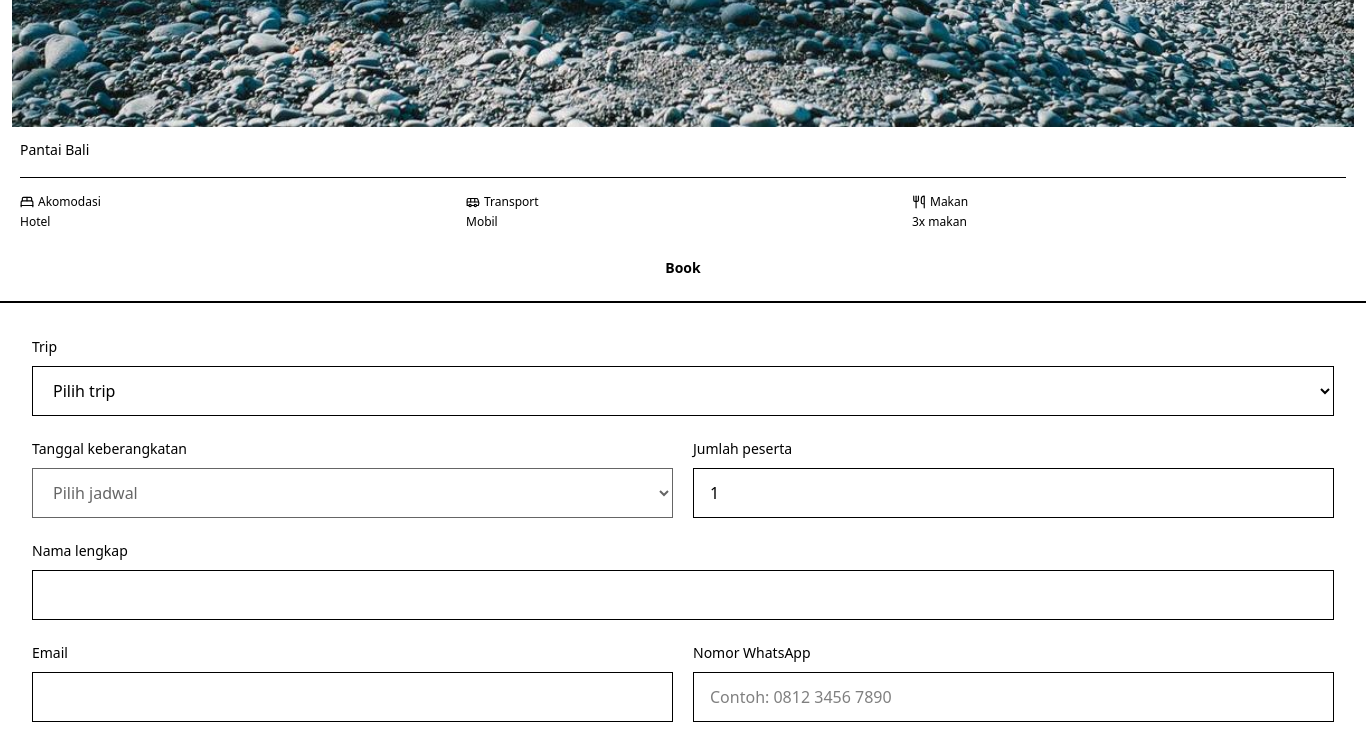
it: BookingForm › submits the form and shows the booking code
(page scrolled)
Select "Nusa Penida — Rp 2.500.000" in the dropdown labelled "Trip" at (683, 391), box [32, 366, 1334, 416]
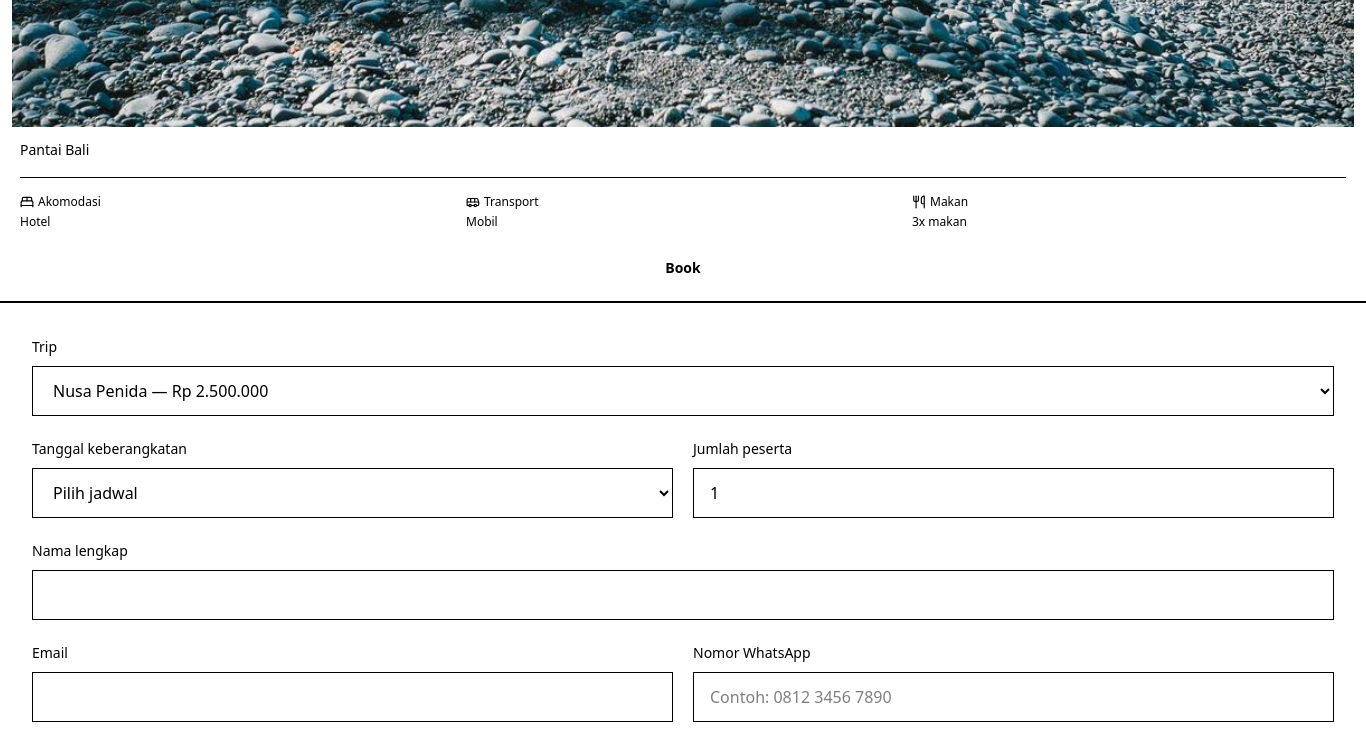
Select "5 Des 2026 · 3 slot" in the dropdown labelled "Tanggal keberangkatan" at (352, 493), box [32, 468, 673, 518]
Replace the text in the number field labelled "Jumlah peserta" with "2" at (1014, 493), box [693, 468, 1334, 518]
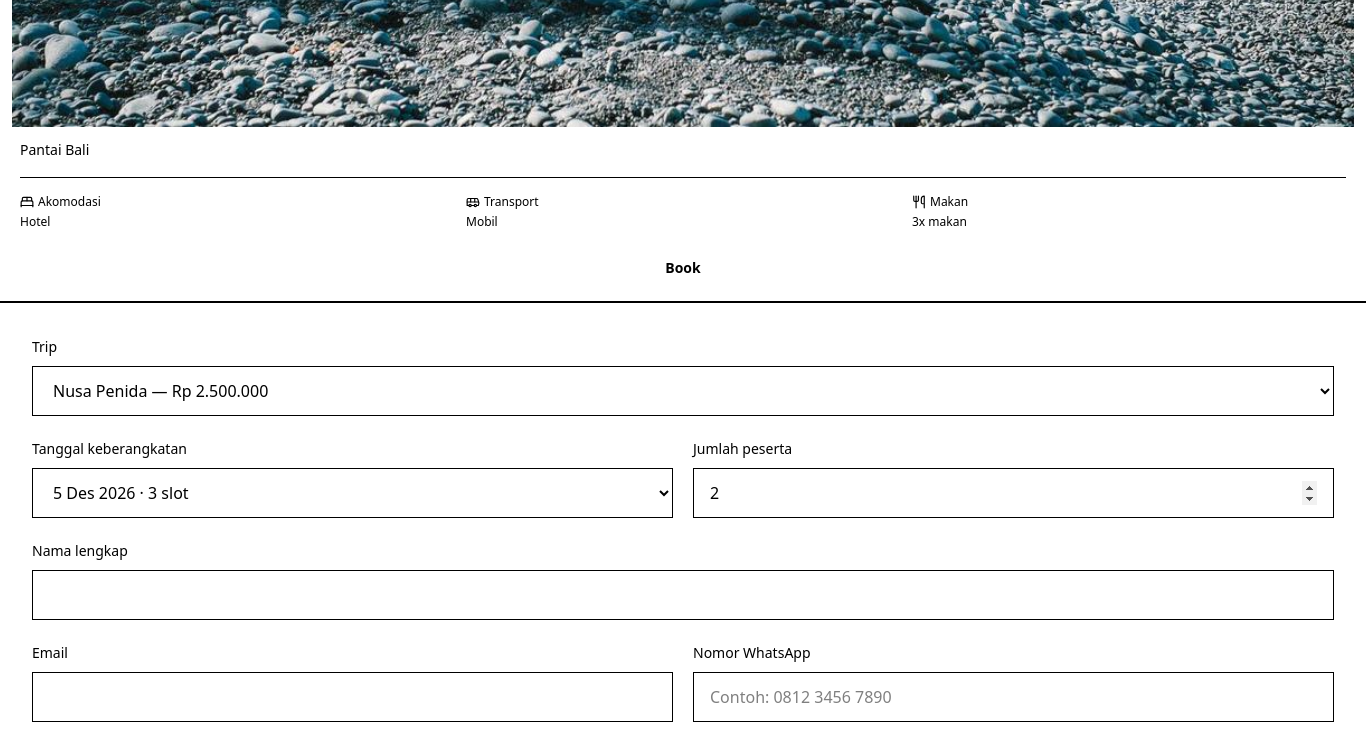
Type "Rani Putri" into the field labelled "Nama lengkap" at (683, 595), box [32, 570, 1334, 620]
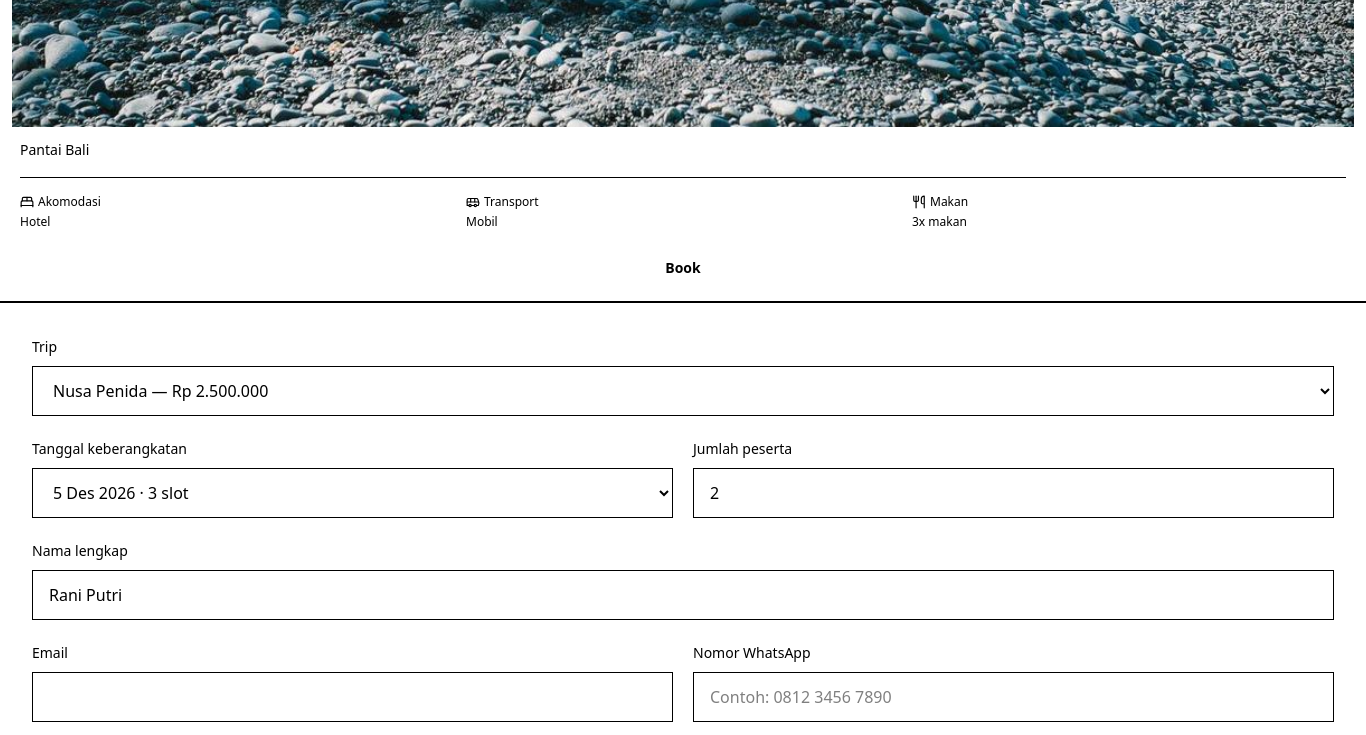
Type "rani@example.com" into the field labelled "Email" at (352, 697), box [32, 672, 673, 722]
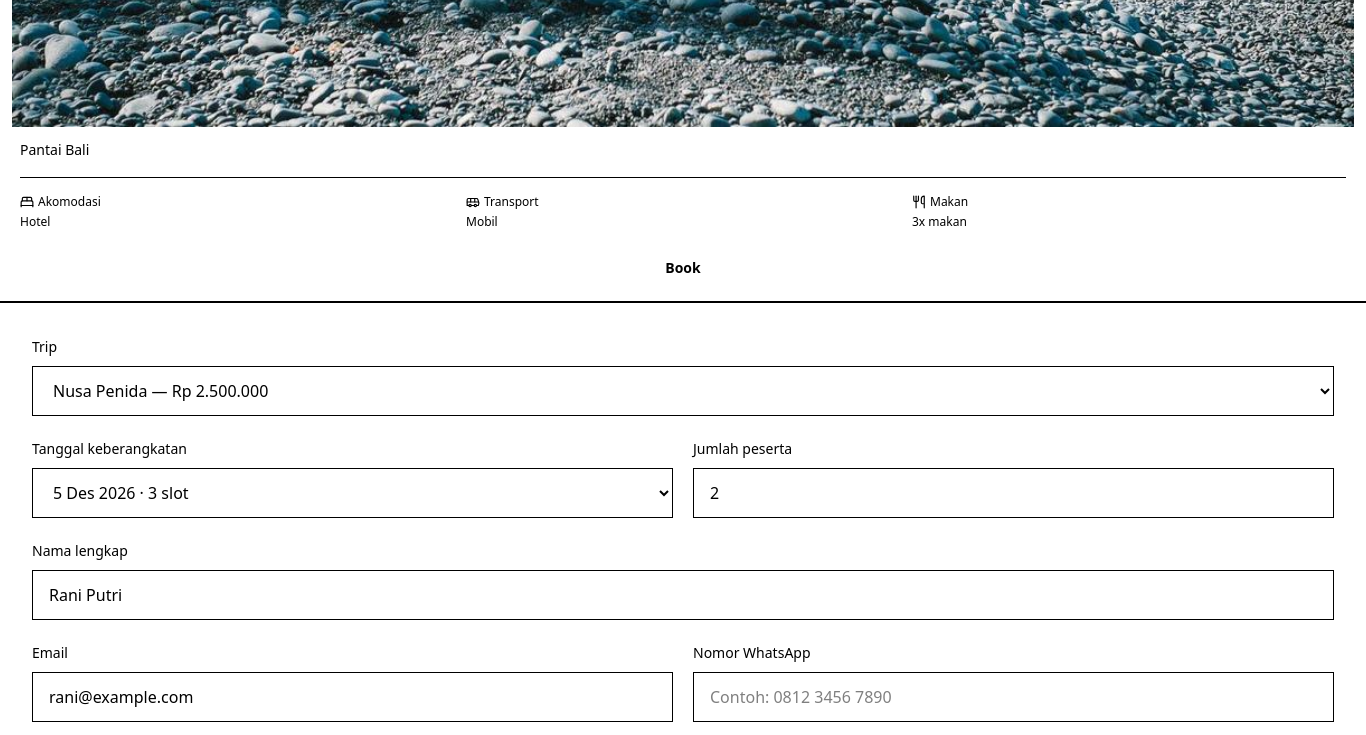
Type "081234567890" into the field labelled "Nomor WhatsApp" at (1014, 697), box [693, 672, 1334, 722]
(page scrolled)
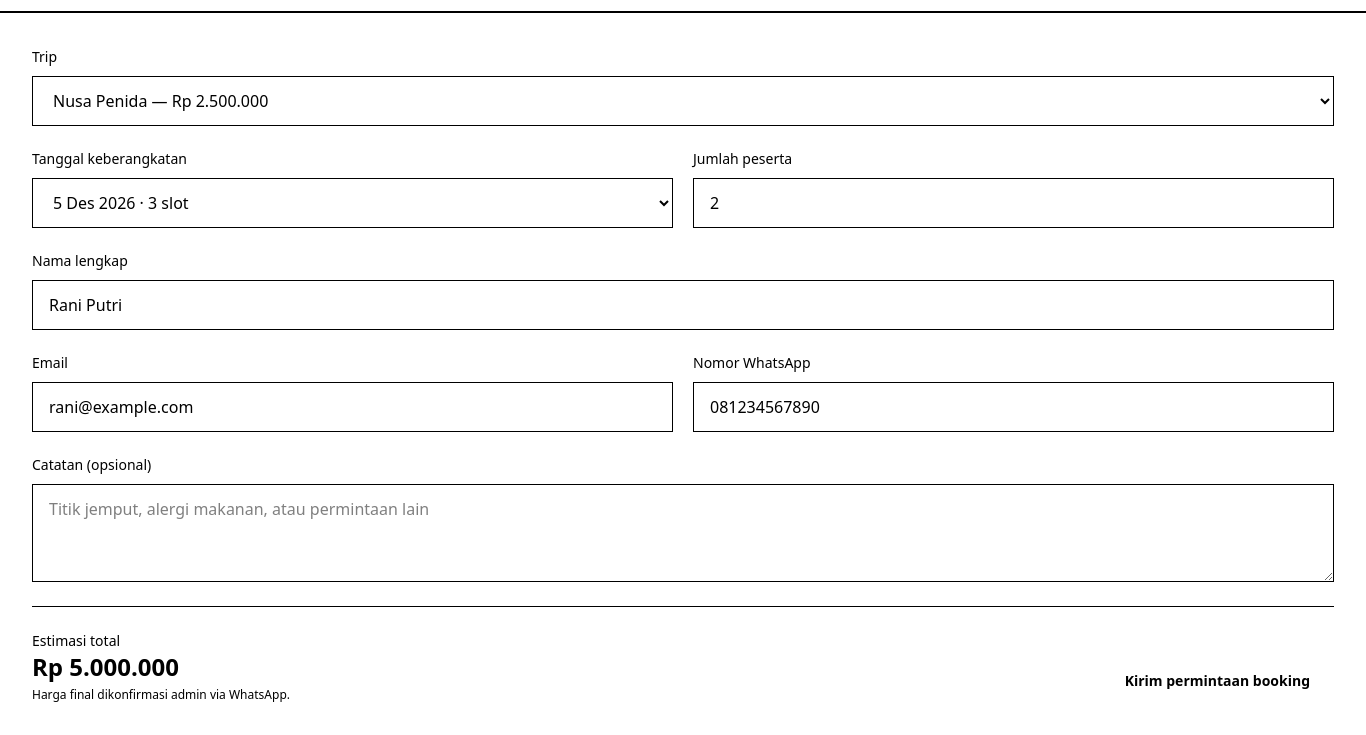
Click the button "Kirim permintaan booking" at (1217, 681), box [1101, 659, 1334, 703]
(page scrolled)
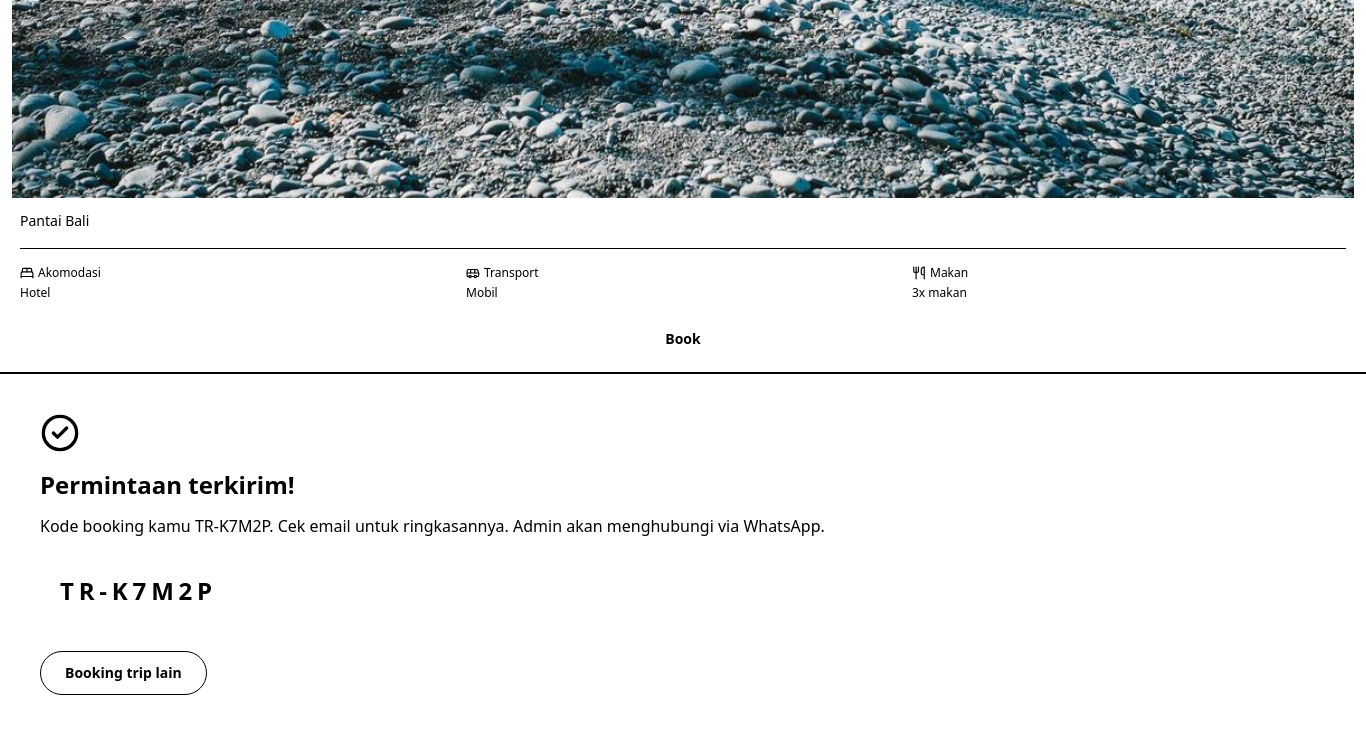
Result: the text "TR-K7M2P" is shown at [60, 574, 217, 607]
